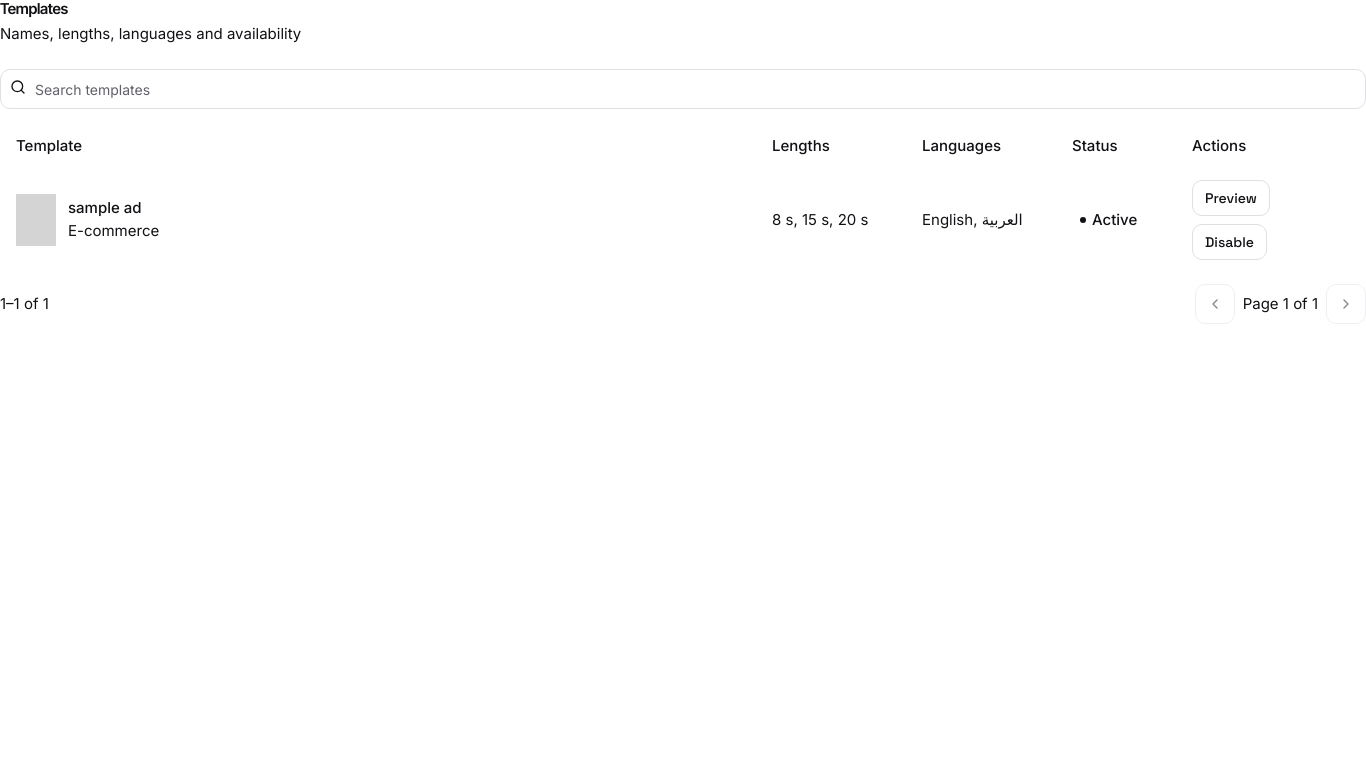
Scenario: simple template availability › disables and restores the same version with revision checks, with confirmation and without duration editing
Click the button with aria-label "Disable sample ad": click(1230, 242) [1192,224,1267,260]
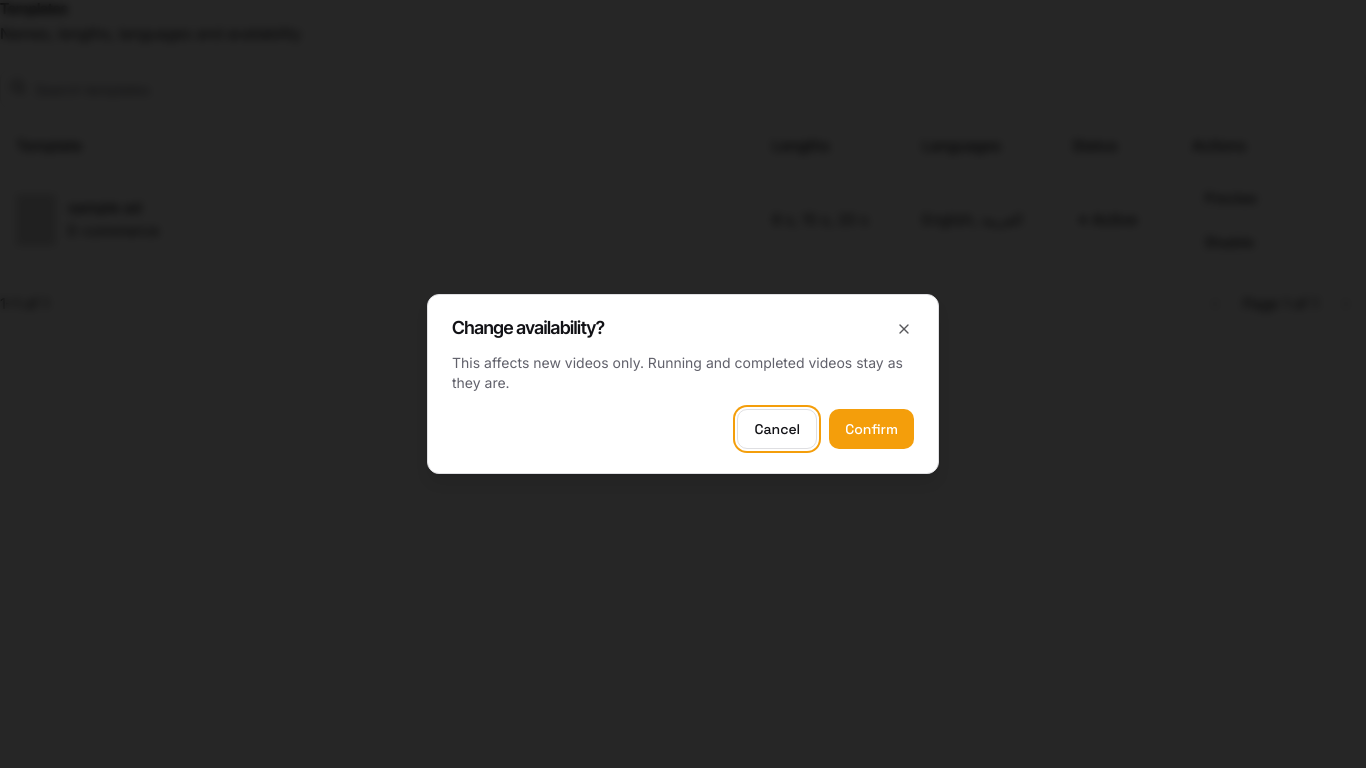
Click the button "Confirm": click(872, 429) [829,409,914,449]
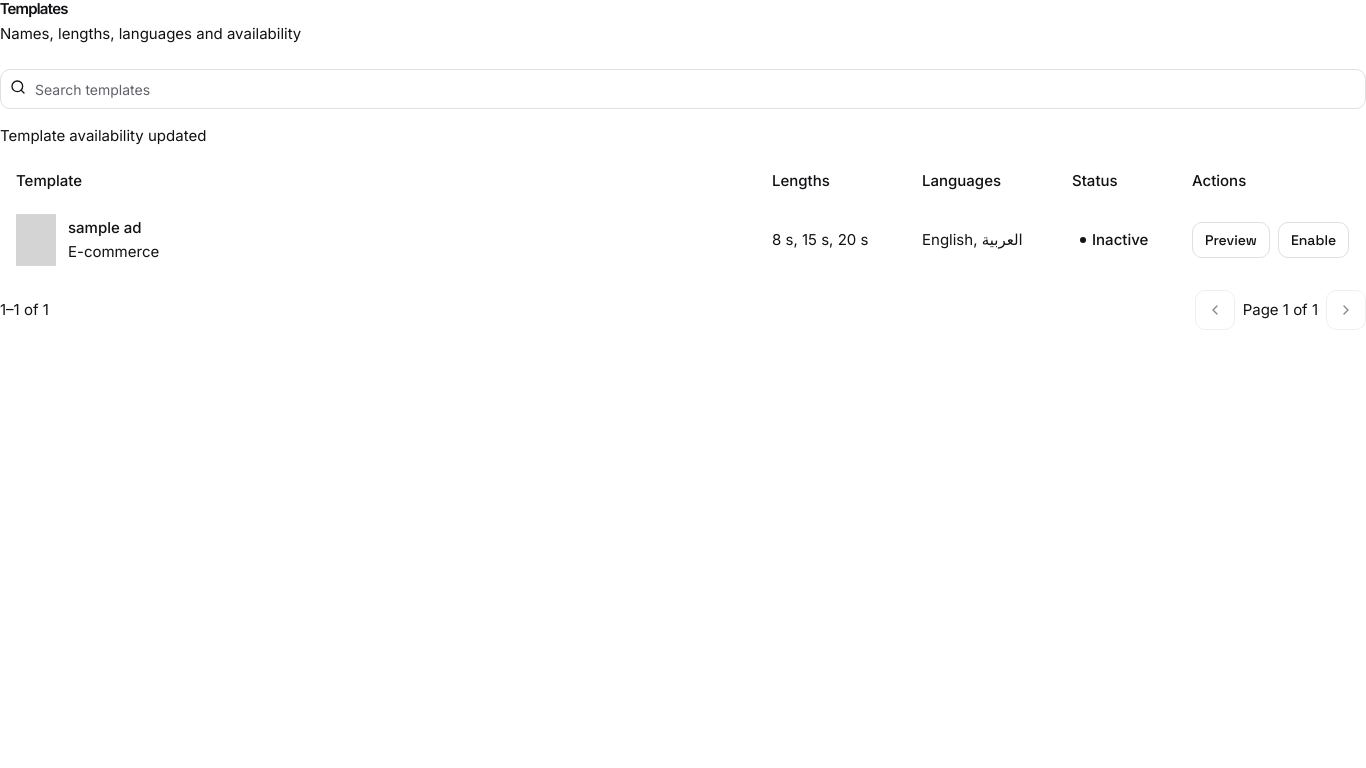
expect the button with aria-label "Enable sample ad" is enabled: met
Click the button with aria-label "Enable sample ad": click(1314, 240) [1278,222,1349,258]
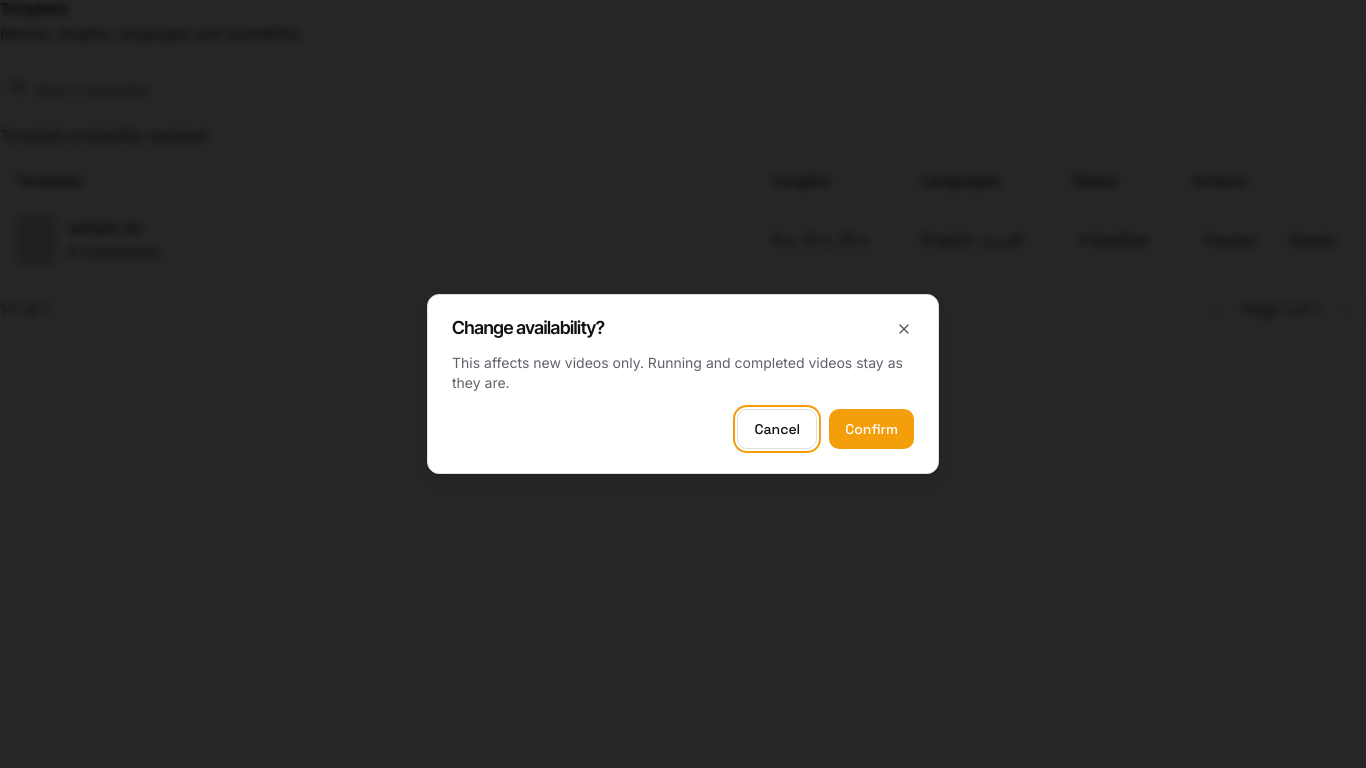
Click the button "Confirm": click(872, 429) [829,409,914,449]
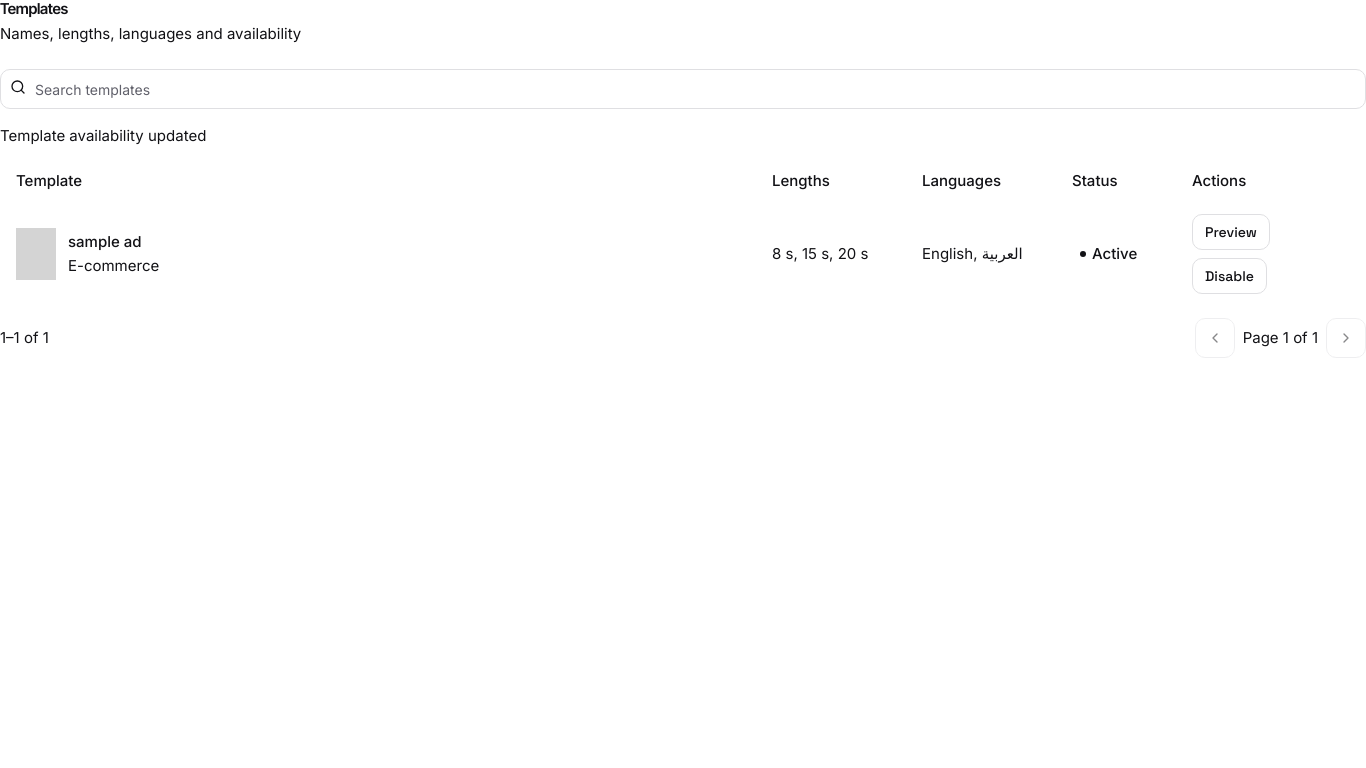
expect the text "8 s, 15 s, 20 s" is shown: met, box [756,202,906,306]
expect the button with aria-label "Disable sample ad" is enabled: met, box [1192,258,1267,294]
